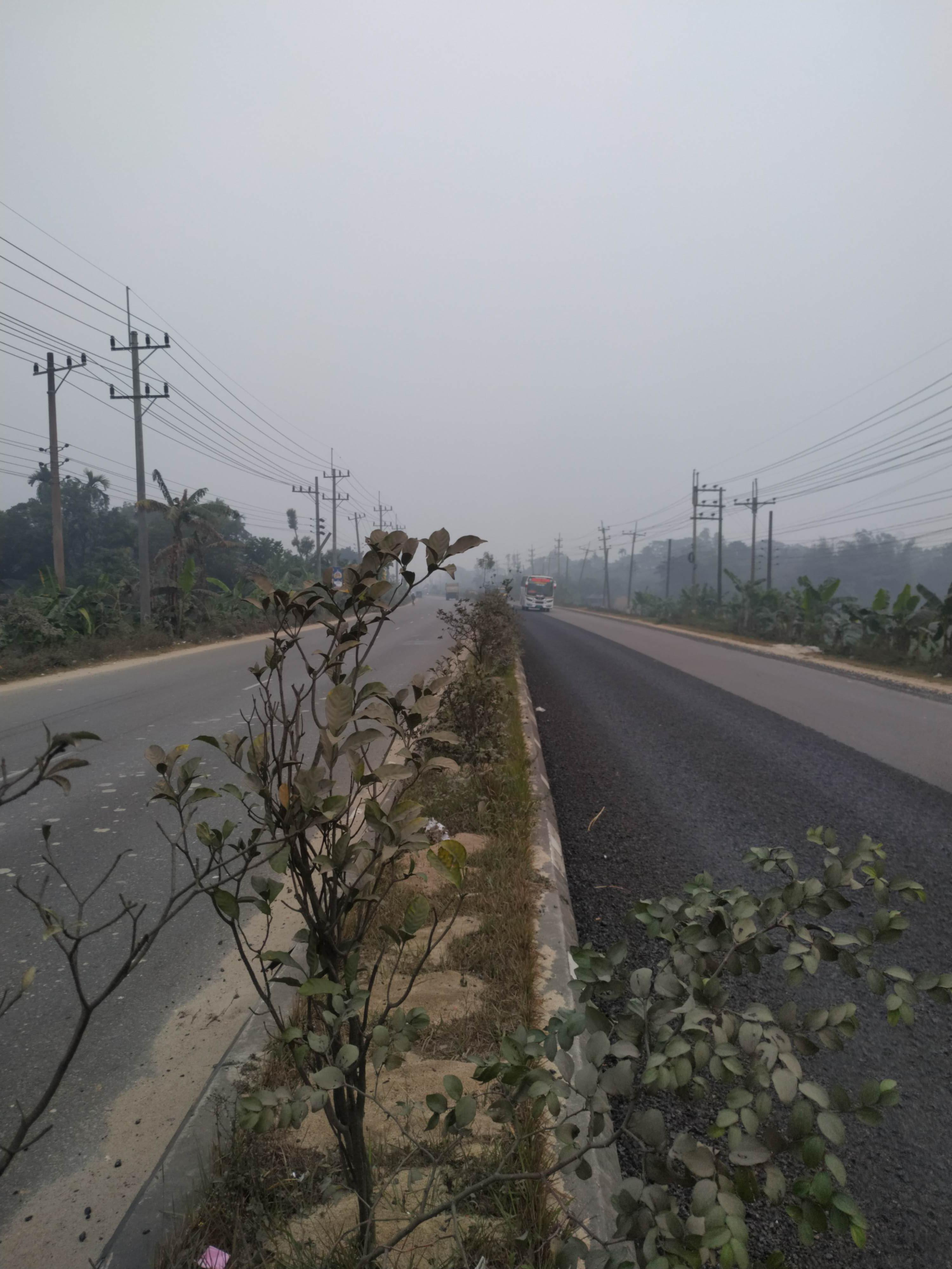Bus: (509, 563, 574, 633)
